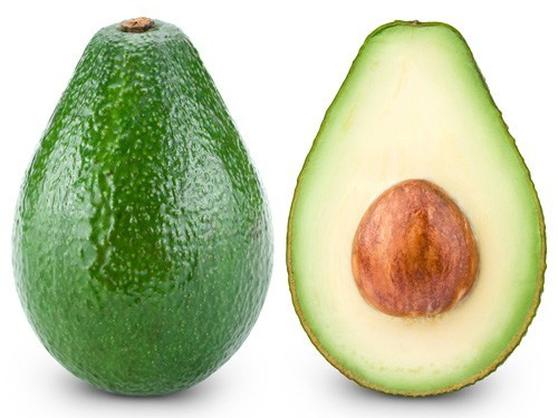avocado: (18, 16, 275, 396)
